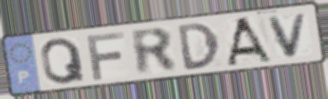A: (225, 15, 275, 67)
D: (175, 21, 222, 73)
F: (84, 30, 127, 82)
Q: (39, 36, 88, 86)
R: (128, 26, 181, 77)
V: (267, 11, 311, 60)
